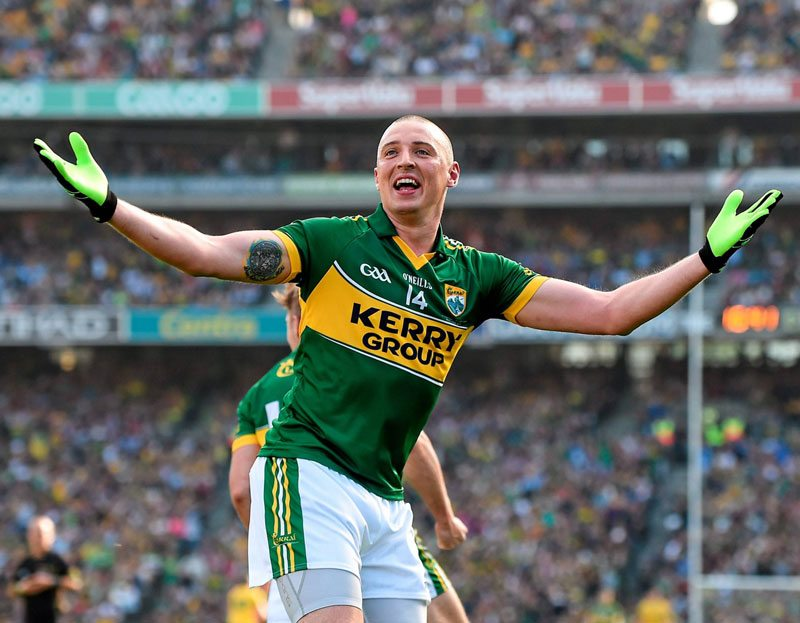player: (216, 73, 528, 596)
